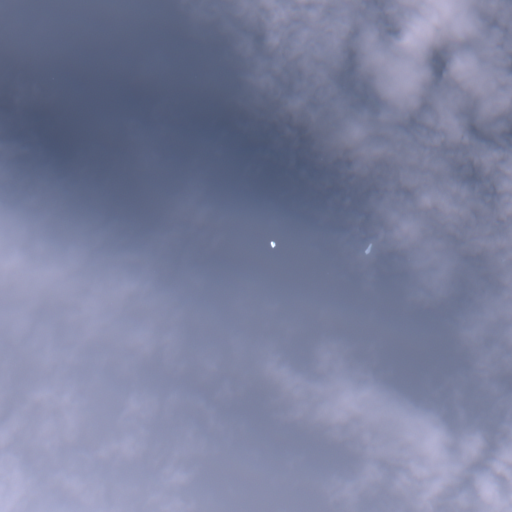Iceberg: (365, 244, 371, 253), (270, 241, 275, 247)
